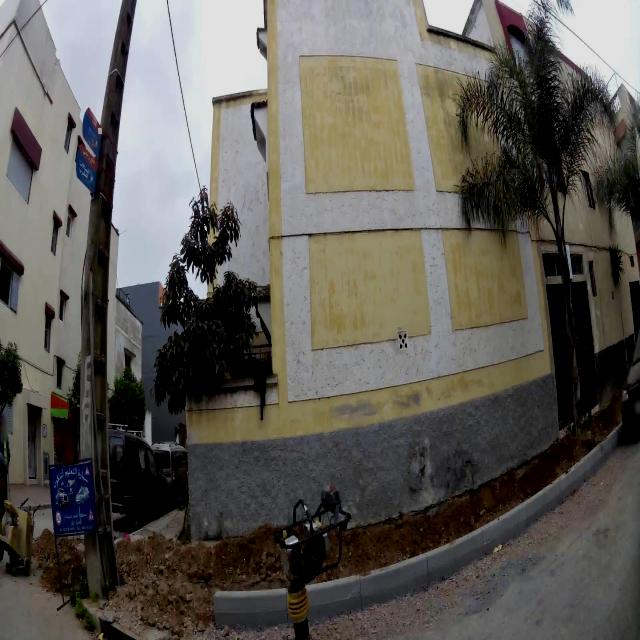car: (108, 428, 168, 534), (151, 441, 189, 508), (621, 316, 640, 441)
